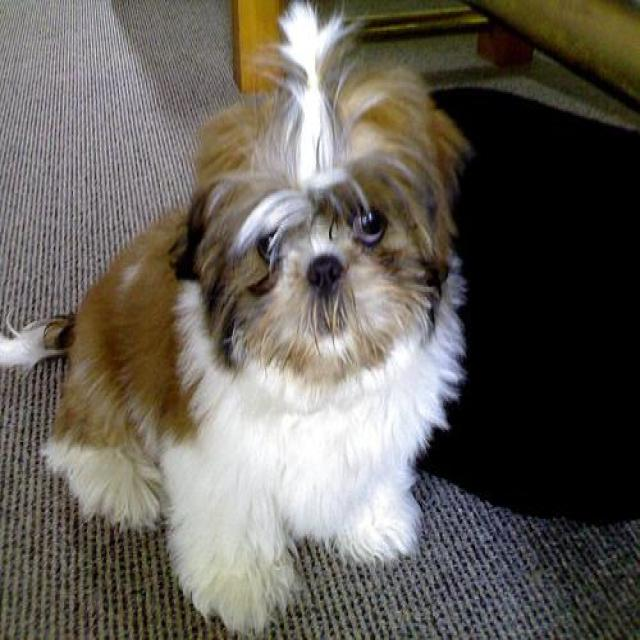shih_tzu: (0, 0, 472, 638)
